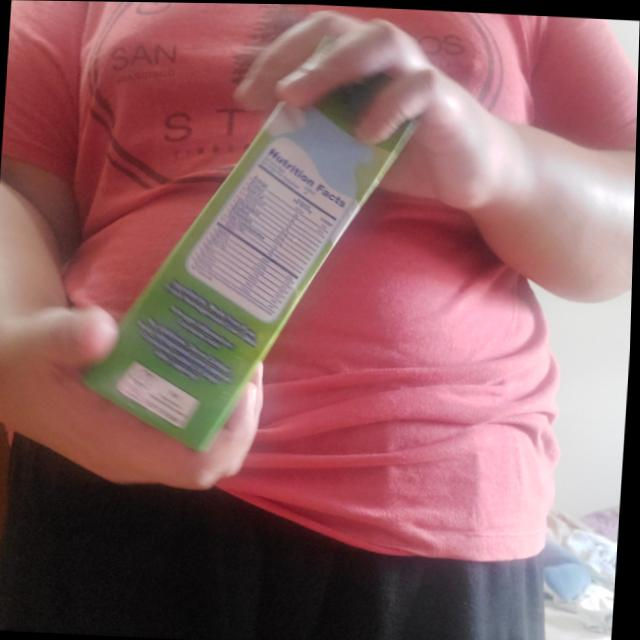milk: (84, 23, 419, 458)
